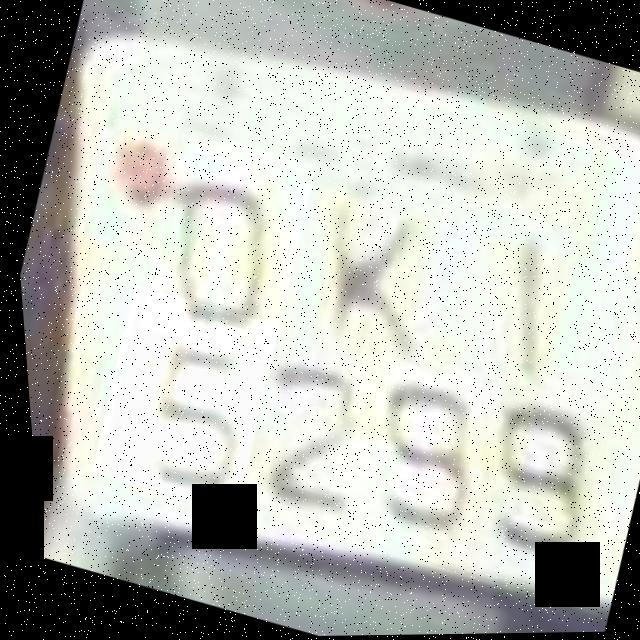2: (190, 317, 397, 545)
5: (72, 283, 285, 516)
6: (81, 293, 287, 517)
8: (301, 349, 506, 569)
9: (412, 373, 617, 607)
O: (121, 126, 325, 366)
